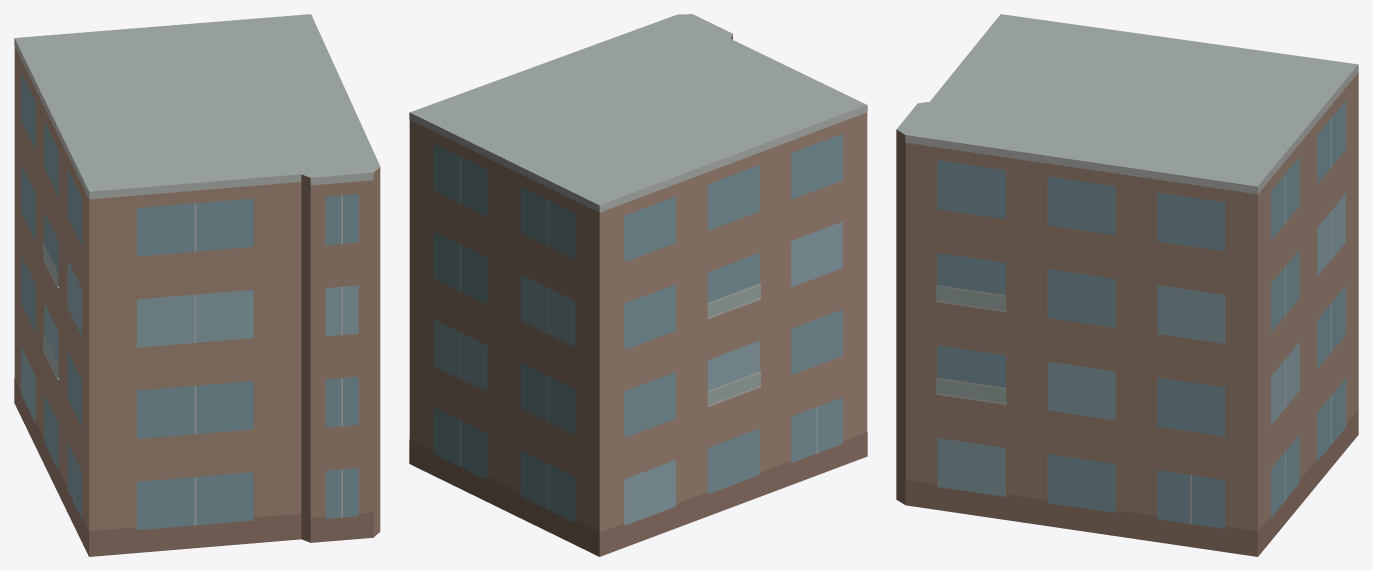
Rendered from survey-upis-32533541.glb.
The picture shows the model from 3 angles, left to right: view 1: azimuth 30°, elevation 25°; view 2: azimuth 150°, elevation 25°; view 3: azimuth 270°, elevation 25°; orthographic projection. The views are drawn at different scales.
Parts seen in each view (by area): view 1: survey-upis-32533541.tmp; view 2: survey-upis-32533541.tmp; view 3: survey-upis-32533541.tmp.
Part boxes in pixels (x1,y1,x2,y2): survey-upis-32533541.tmp: (14,14,380,556); survey-upis-32533541.tmp: (409,14,867,556); survey-upis-32533541.tmp: (896,14,1358,556).
Size of the model in its own units: 11.71 by 11.7 by 13.25.
